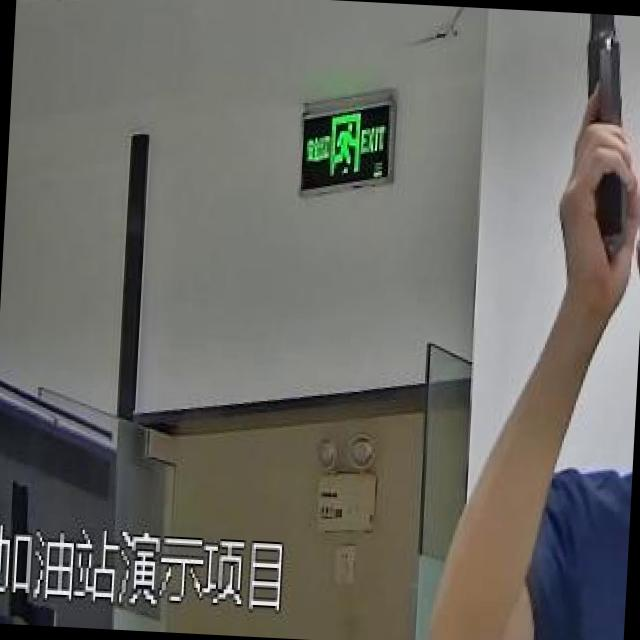Guns: (538, 12, 640, 293)
